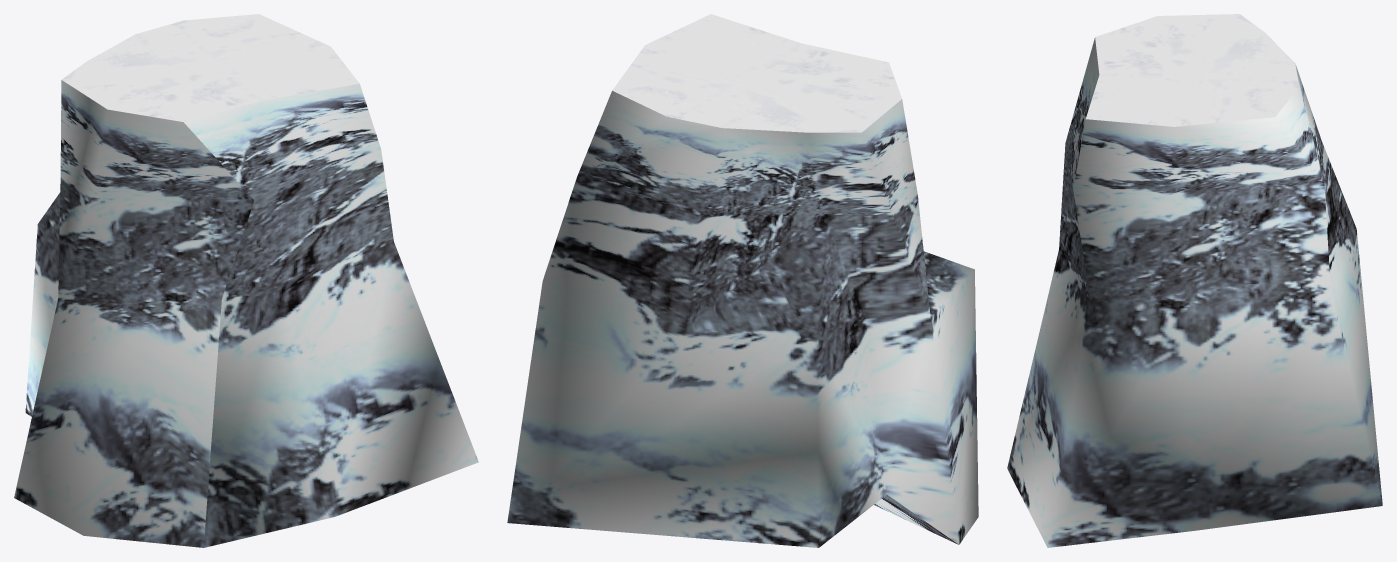
Rendered from san014.obj.
3 views of the same model, side by side, from view 1: azimuth 30°, elevation 25°; view 2: azimuth 150°, elevation 25°; view 3: azimuth 270°, elevation 25° (orthographic). The views are drawn at different scales.
Visible parts, largest first — view 1: san014; view 2: san014; view 3: san014.
Part boxes in pixels (<box>): san014: <box>14,14,478,547</box>; san014: <box>507,14,978,547</box>; san014: <box>1007,14,1382,547</box>.
Size of the model in its own units: 225 by 234 by 192.
